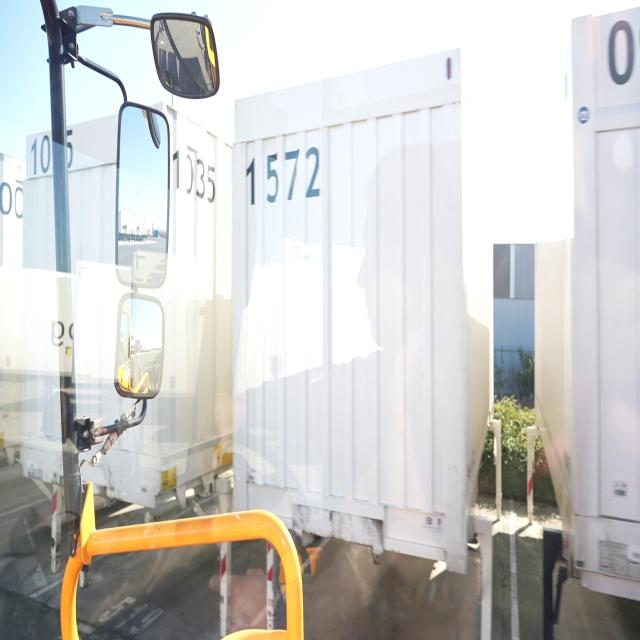Code: (243, 140, 330, 216), (168, 125, 222, 210)
